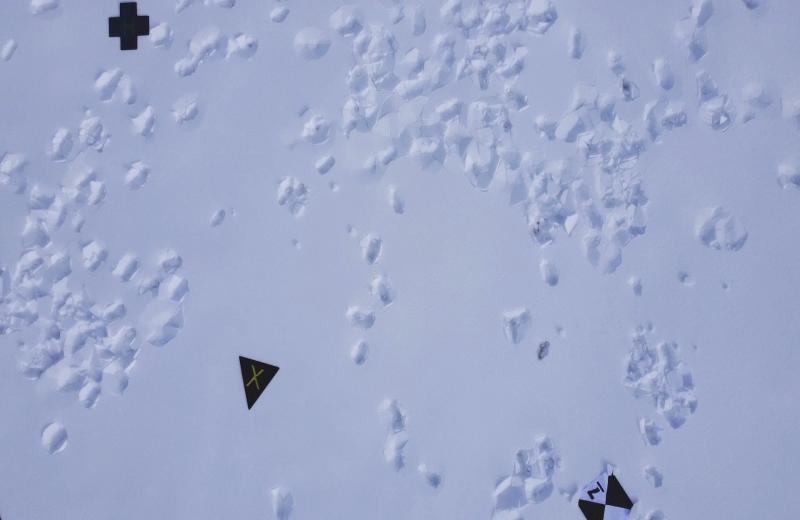Cross: (103, 0, 155, 53)
Triangle: (236, 354, 281, 410)
